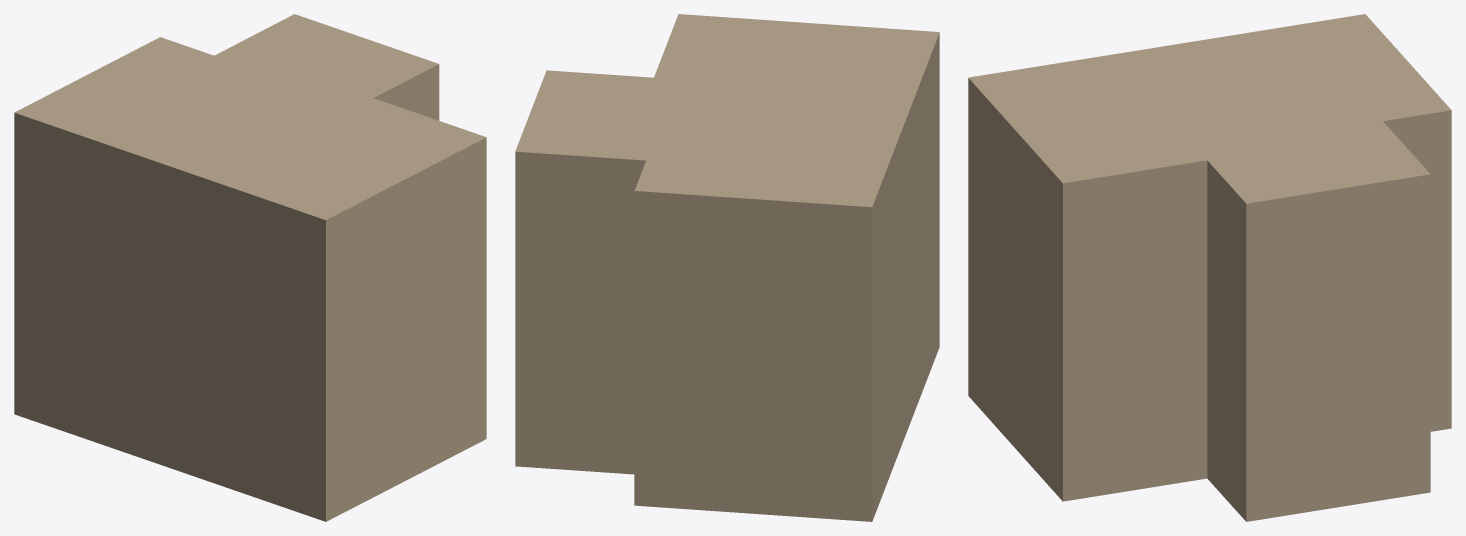
The model's file is bld_107610405.dae.
The picture shows the model from 3 angles, left to right: view 1: azimuth 30°, elevation 25°; view 2: azimuth 150°, elevation 25°; view 3: azimuth 270°, elevation 25°; orthographic projection. The views are drawn at different scales.
Visible parts, largest first — view 1: bld_107610405; view 2: bld_107610405; view 3: bld_107610405.
Part boxes in pixels (x1,y1,x2,y2): bld_107610405: (14,14,486,521); bld_107610405: (515,14,939,521); bld_107610405: (968,14,1451,521).
Bounding box in the file's own units: 10.23 × 11.01 × 8.
